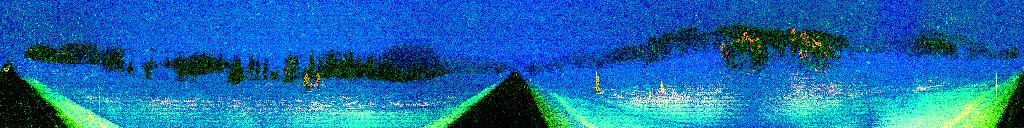pole: (97, 86, 102, 117), (994, 70, 999, 98)
